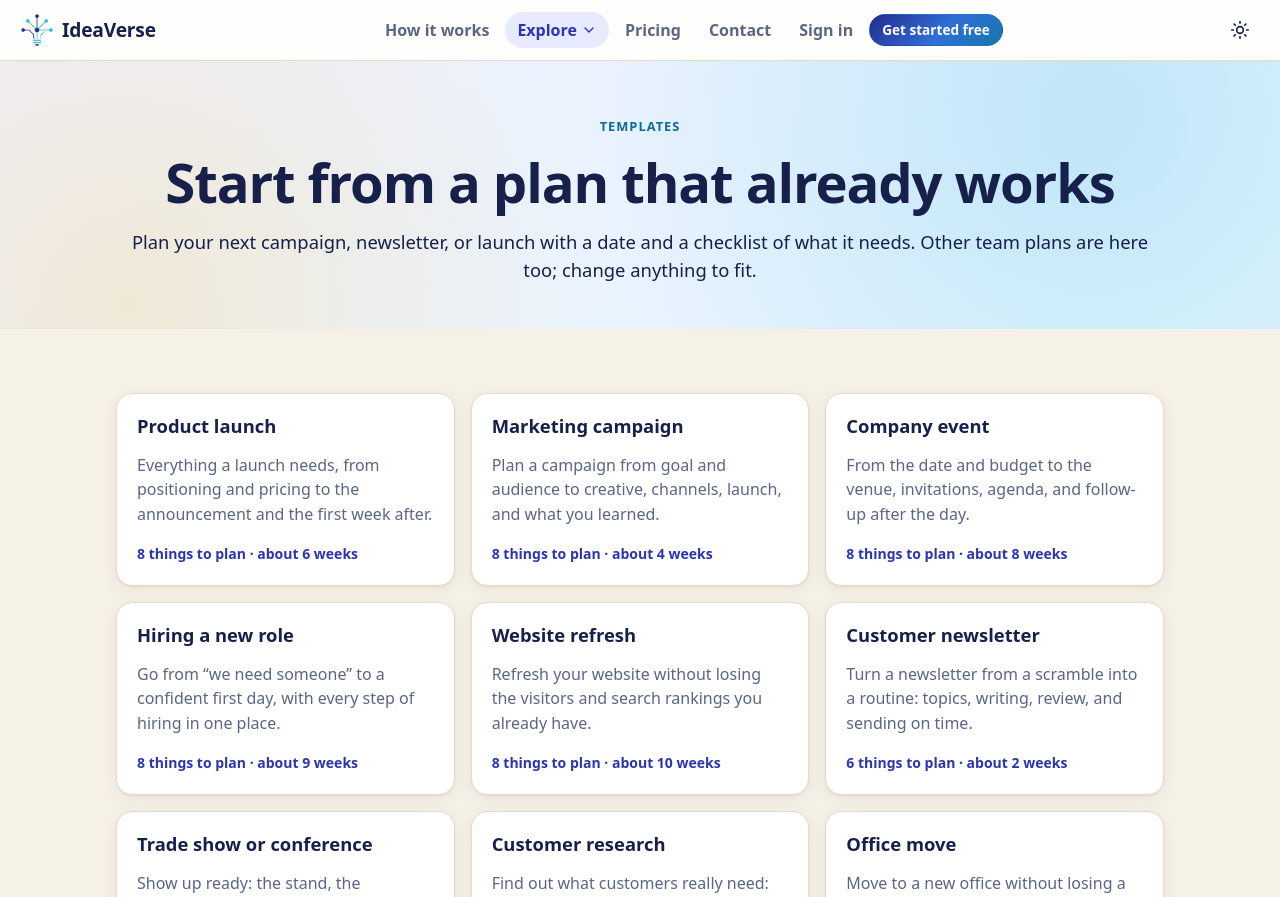
Template gallery › lists every template and opens one
The image size is (1280, 897).
Check: the heading "Start from a plan that already works" is shown, box x1=165 y1=153 x2=1115 y2=212
Click the link "Product launch": (285, 489) x1=116 y1=393 x2=455 y2=586
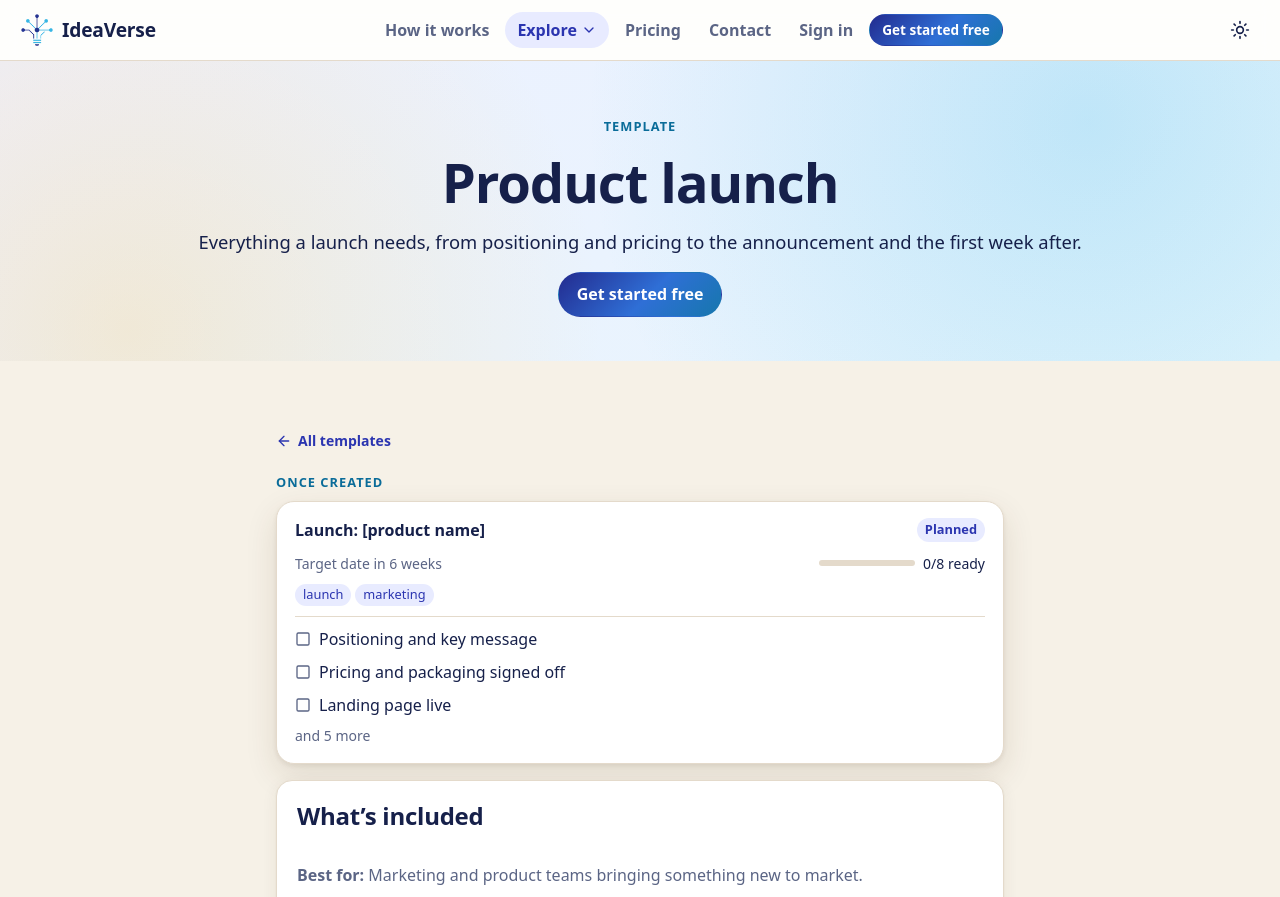
Check: the heading "Product launch" is shown, box x1=442 y1=153 x2=838 y2=212
